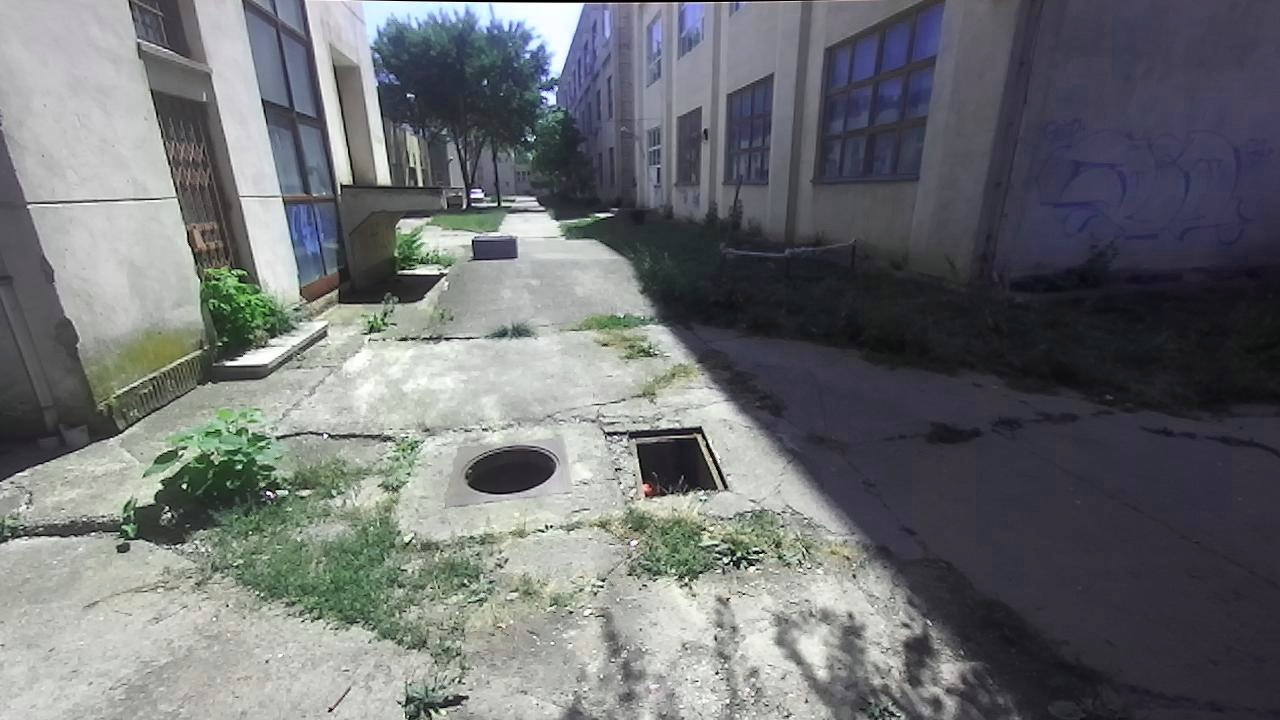drain: (624, 420, 736, 499), (455, 443, 565, 494)
